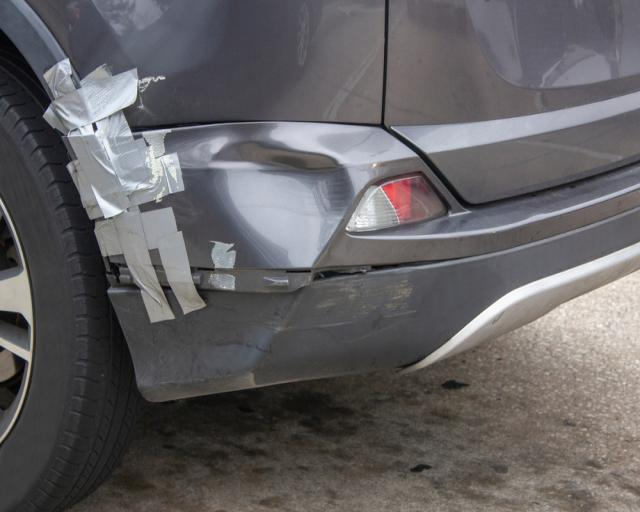dent: (210, 140, 352, 269)
scratch: (235, 275, 429, 342)
